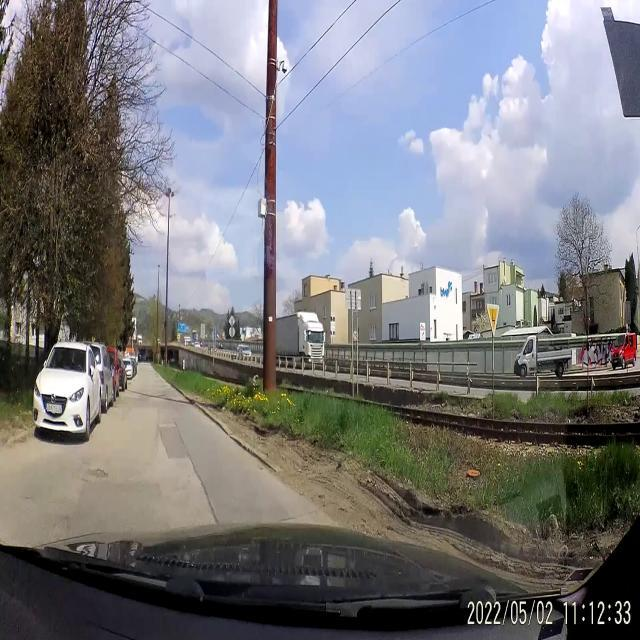Pothole: (78, 468, 116, 483)
